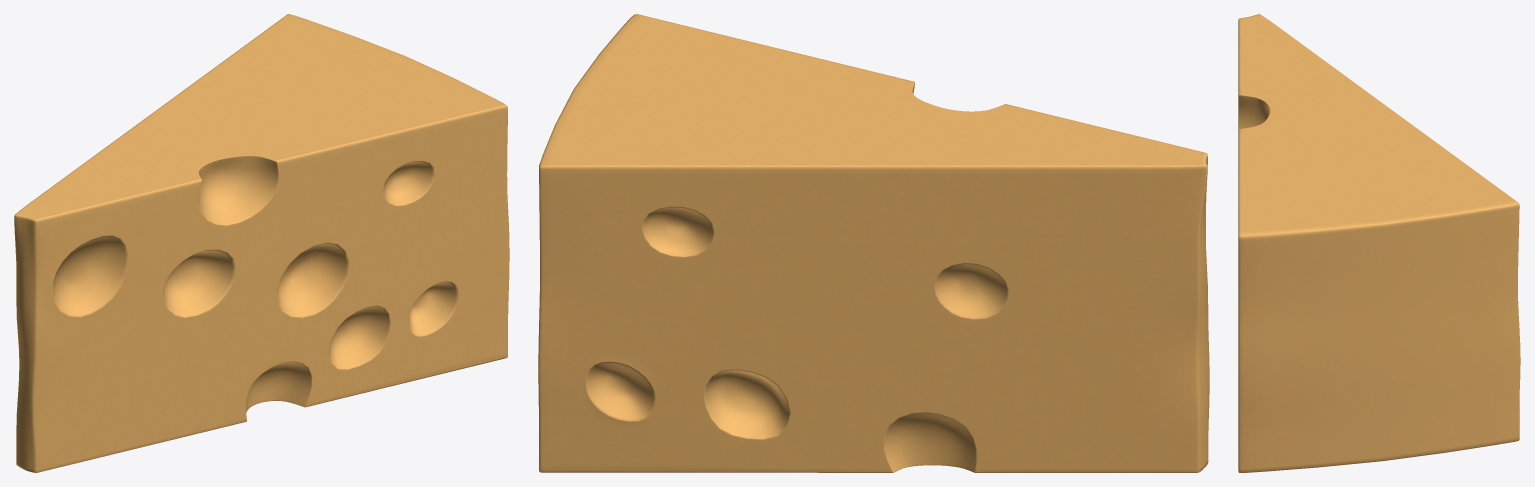
File: cheese.obj
3 views of the same model, side by side, from view 1: azimuth 30°, elevation 25°; view 2: azimuth 150°, elevation 25°; view 3: azimuth 270°, elevation 25° (orthographic). The views are drawn at different scales.
Parts seen in each view (by area): view 1: poct_cheese_body; view 2: poct_cheese_body; view 3: poct_cheese_body.
Part boxes in pixels (x1=…): poct_cheese_body: x1=14, y1=14, x2=509, y2=472; poct_cheese_body: x1=538, y1=14, x2=1209, y2=472; poct_cheese_body: x1=1238, y1=14, x2=1520, y2=472.
Size of the model in its own units: 0.5054 by 0.2521 by 0.2708.
1 material, 1 textured.
